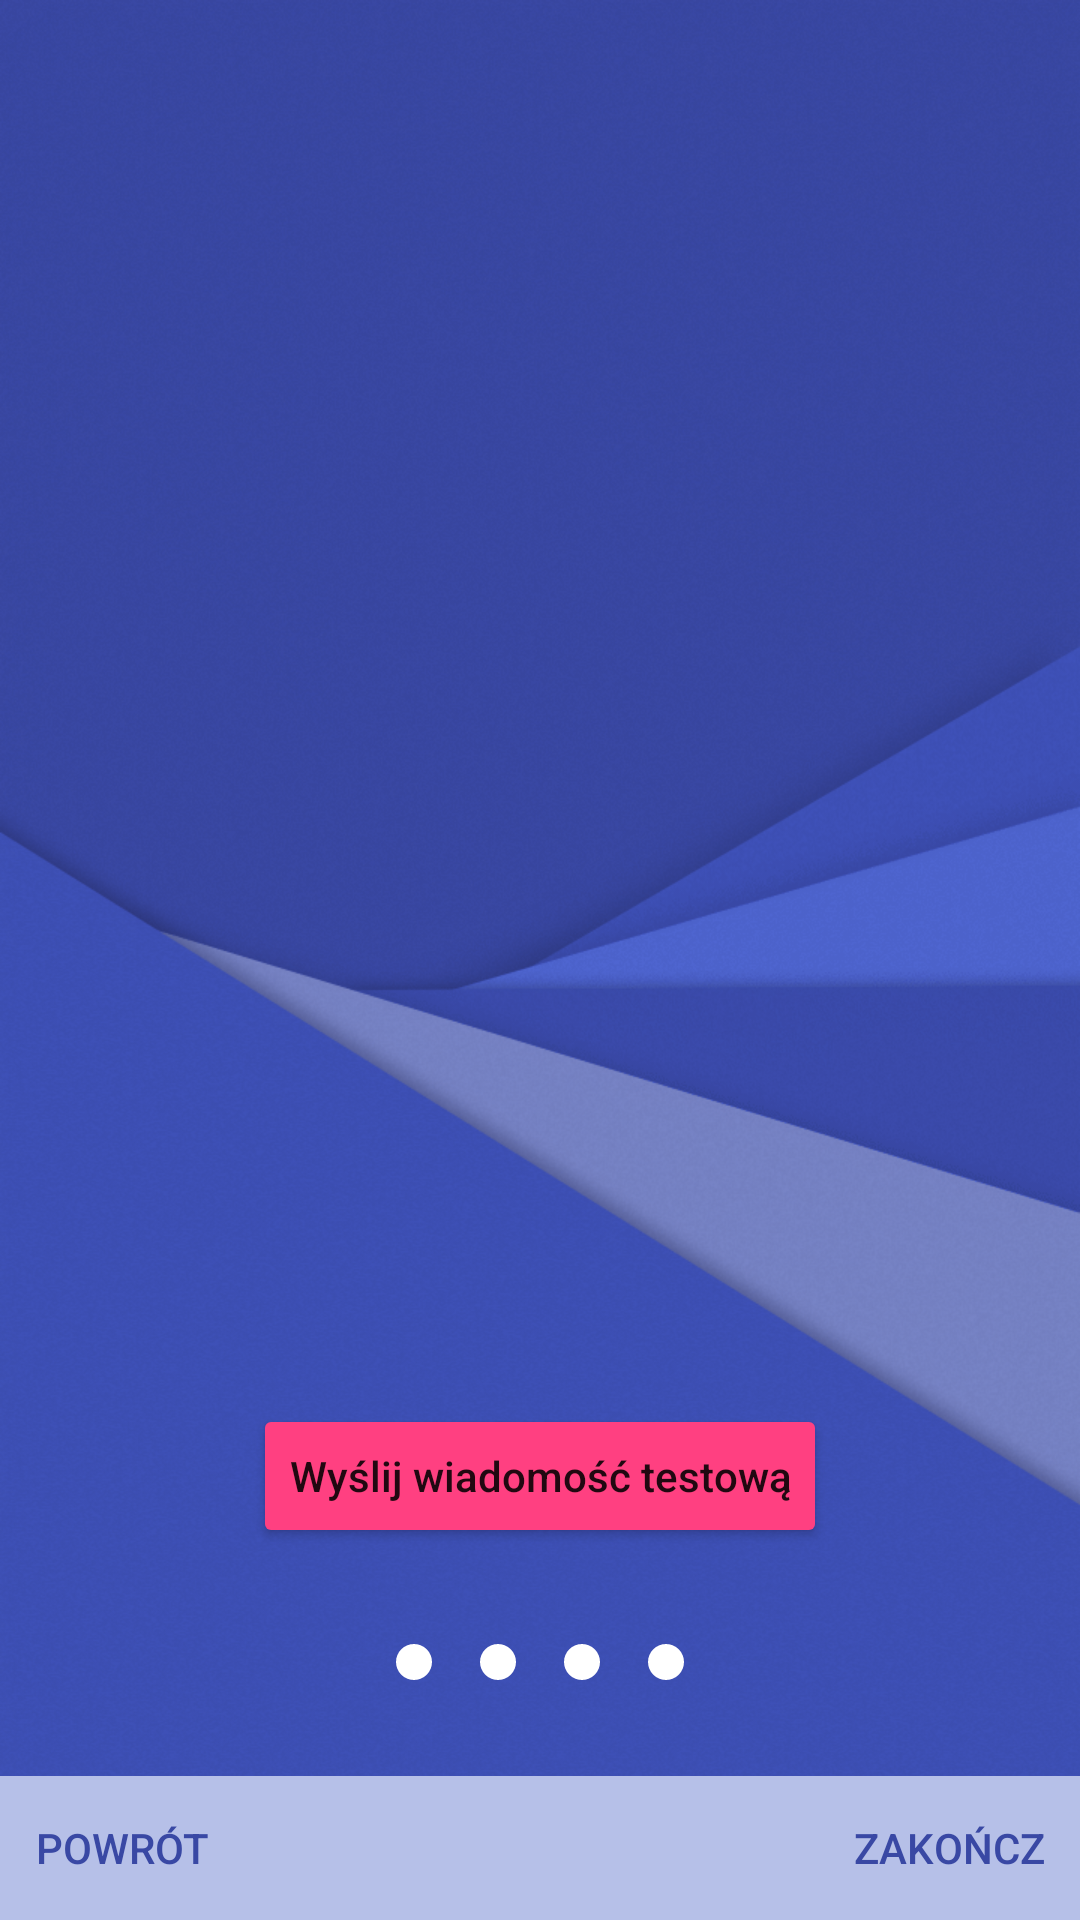

Locate icon controls on the screen. Image size 1080w x 1920h, boxes as (x1, y1, x2, y2).
dot: (396, 1644, 432, 1680), (480, 1644, 516, 1680), (564, 1644, 600, 1680), (648, 1644, 684, 1680)
